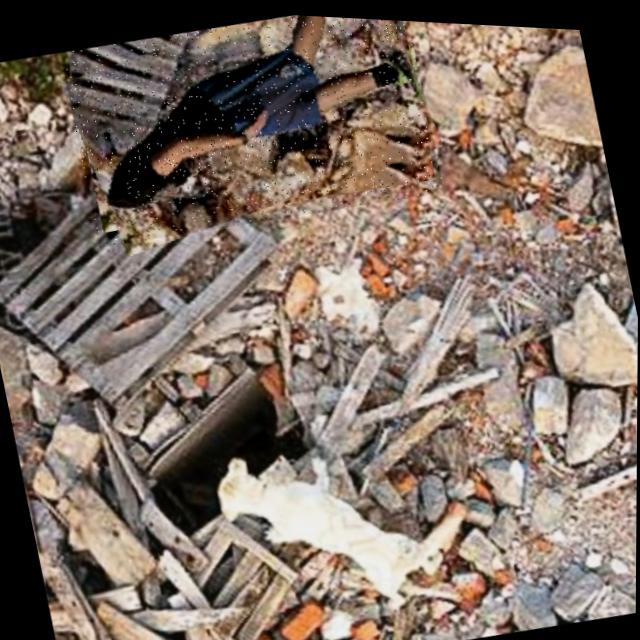Person in Rubble: (59, 2, 445, 259)
